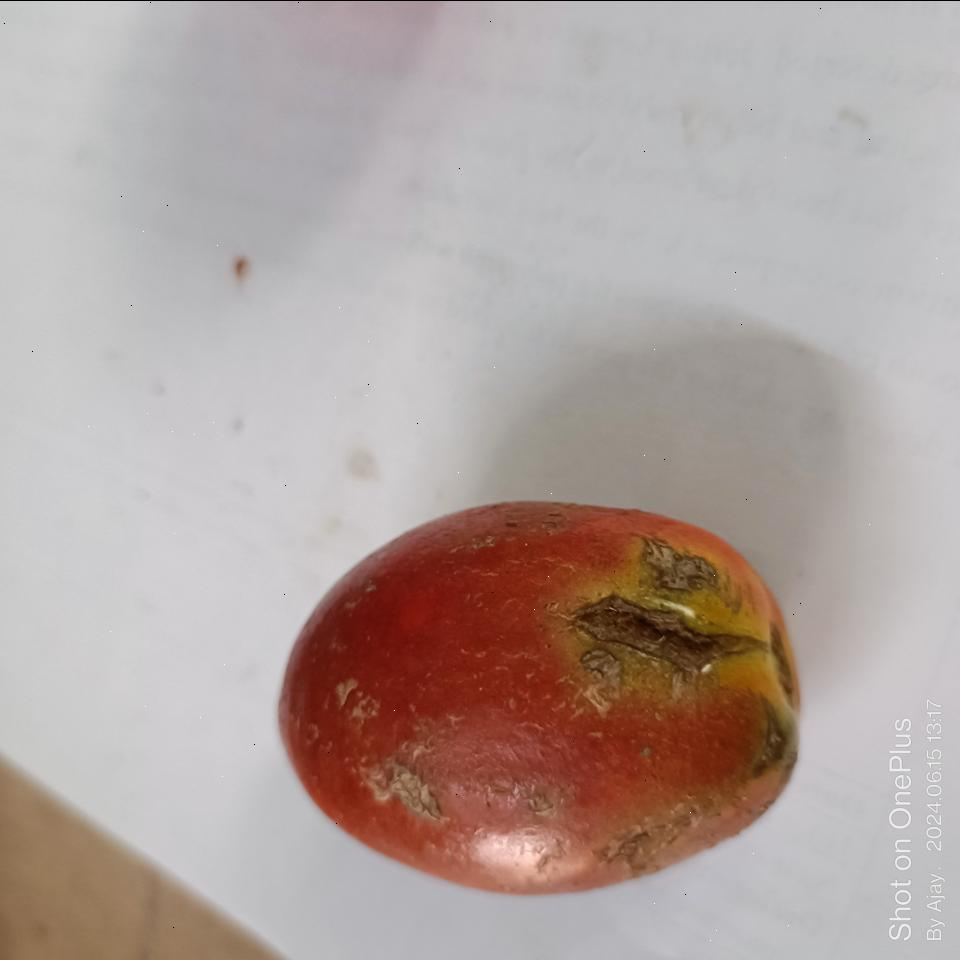Bacterial_Spot: (573, 594, 768, 708), (360, 760, 442, 814), (640, 543, 715, 597)
